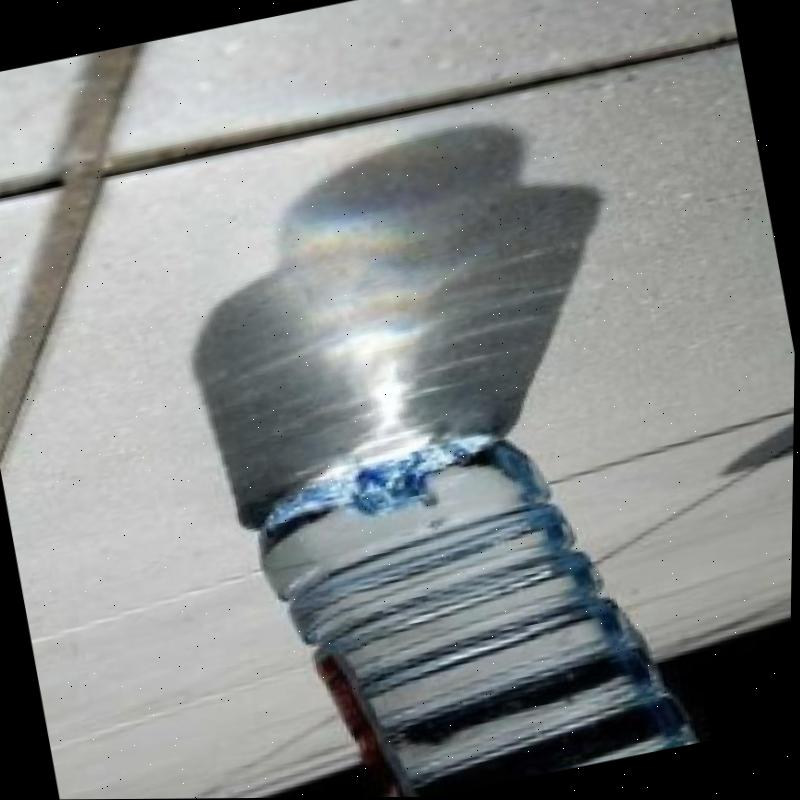botella: (242, 389, 699, 799)
